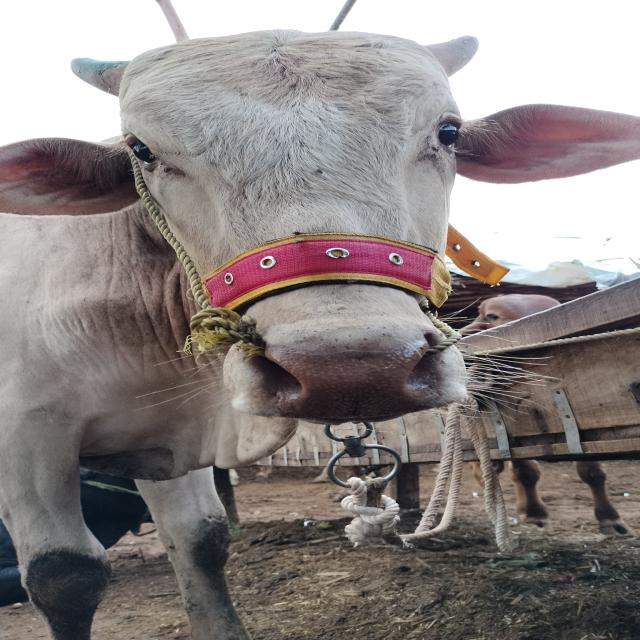muzzles: (242, 323, 468, 426)
